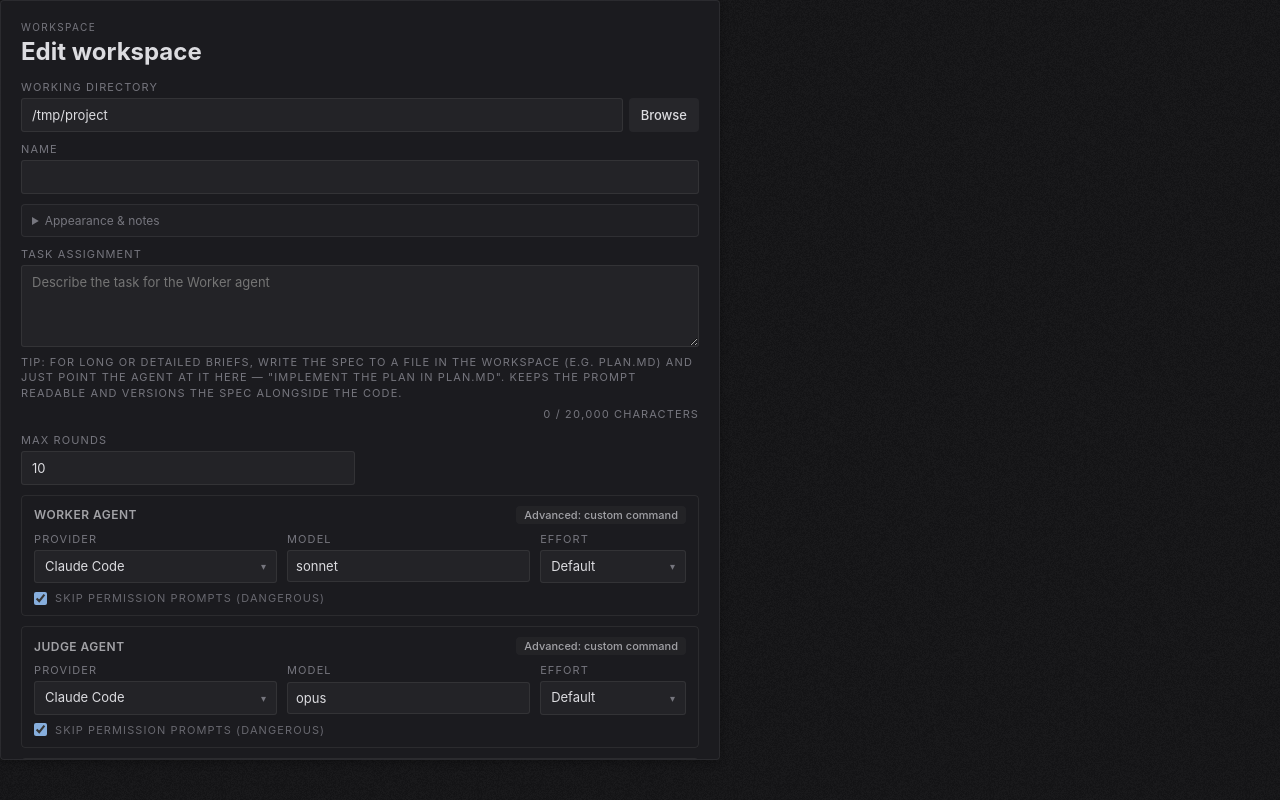
WorkspaceDialog › browseCwd — rejection is caught and surfaced as a toast, not an unhandled rejection › accepted browse result updates the working directory field
The image size is (1280, 800).
What coordinates should you click on to do the following:
click the button with class "input-with-action__btn"
I would click on:
 (664, 115)
Its box is [629,98,699,132].
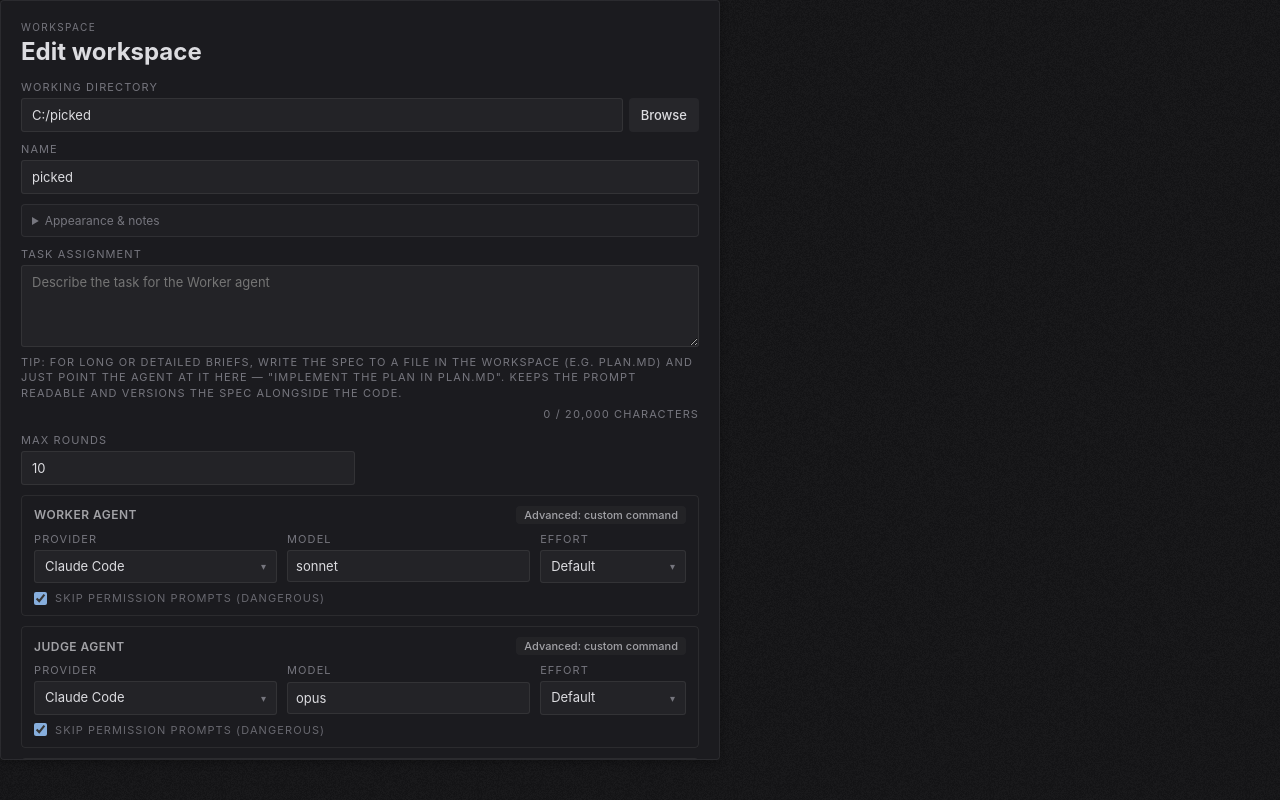
Now the field named "cwd" holds "C:/picked", box [21,98,623,132]
